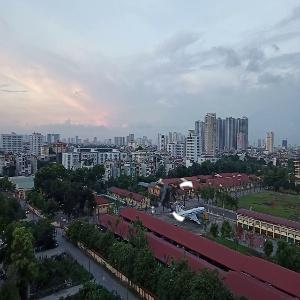drone: (152, 177, 196, 221)
